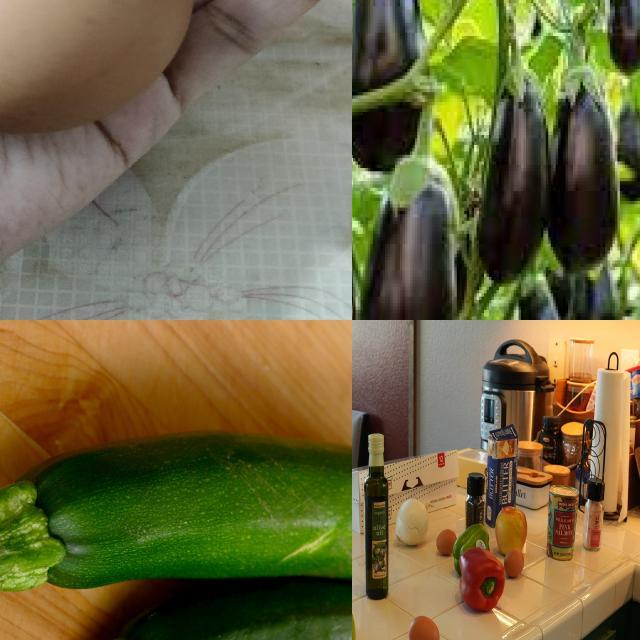bell_pepper: (460, 553, 510, 617), (452, 527, 492, 577), (465, 471, 487, 538)
egg: (1, 1, 201, 133), (406, 613, 443, 640), (436, 525, 458, 555), (503, 555, 530, 579)
eggplant: (356, 162, 455, 321), (475, 60, 544, 281), (547, 60, 619, 268), (353, 1, 430, 162), (559, 241, 613, 321), (504, 274, 564, 321), (601, 1, 640, 73)
onion: (393, 501, 433, 547)
zucchini: (1, 418, 353, 612)
